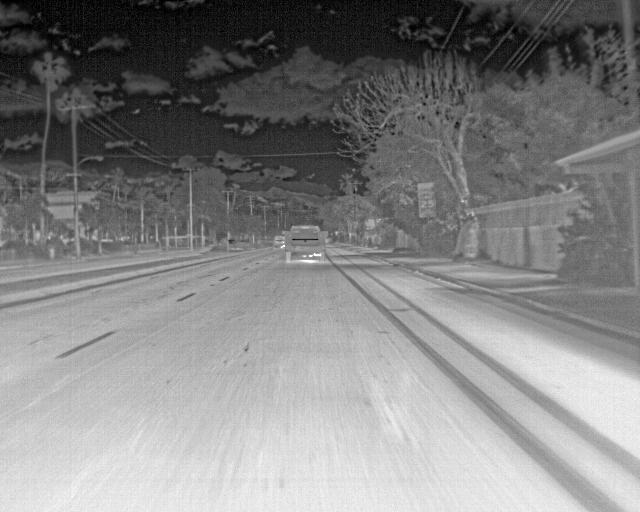car: (285, 225, 327, 263), (271, 234, 286, 246)
